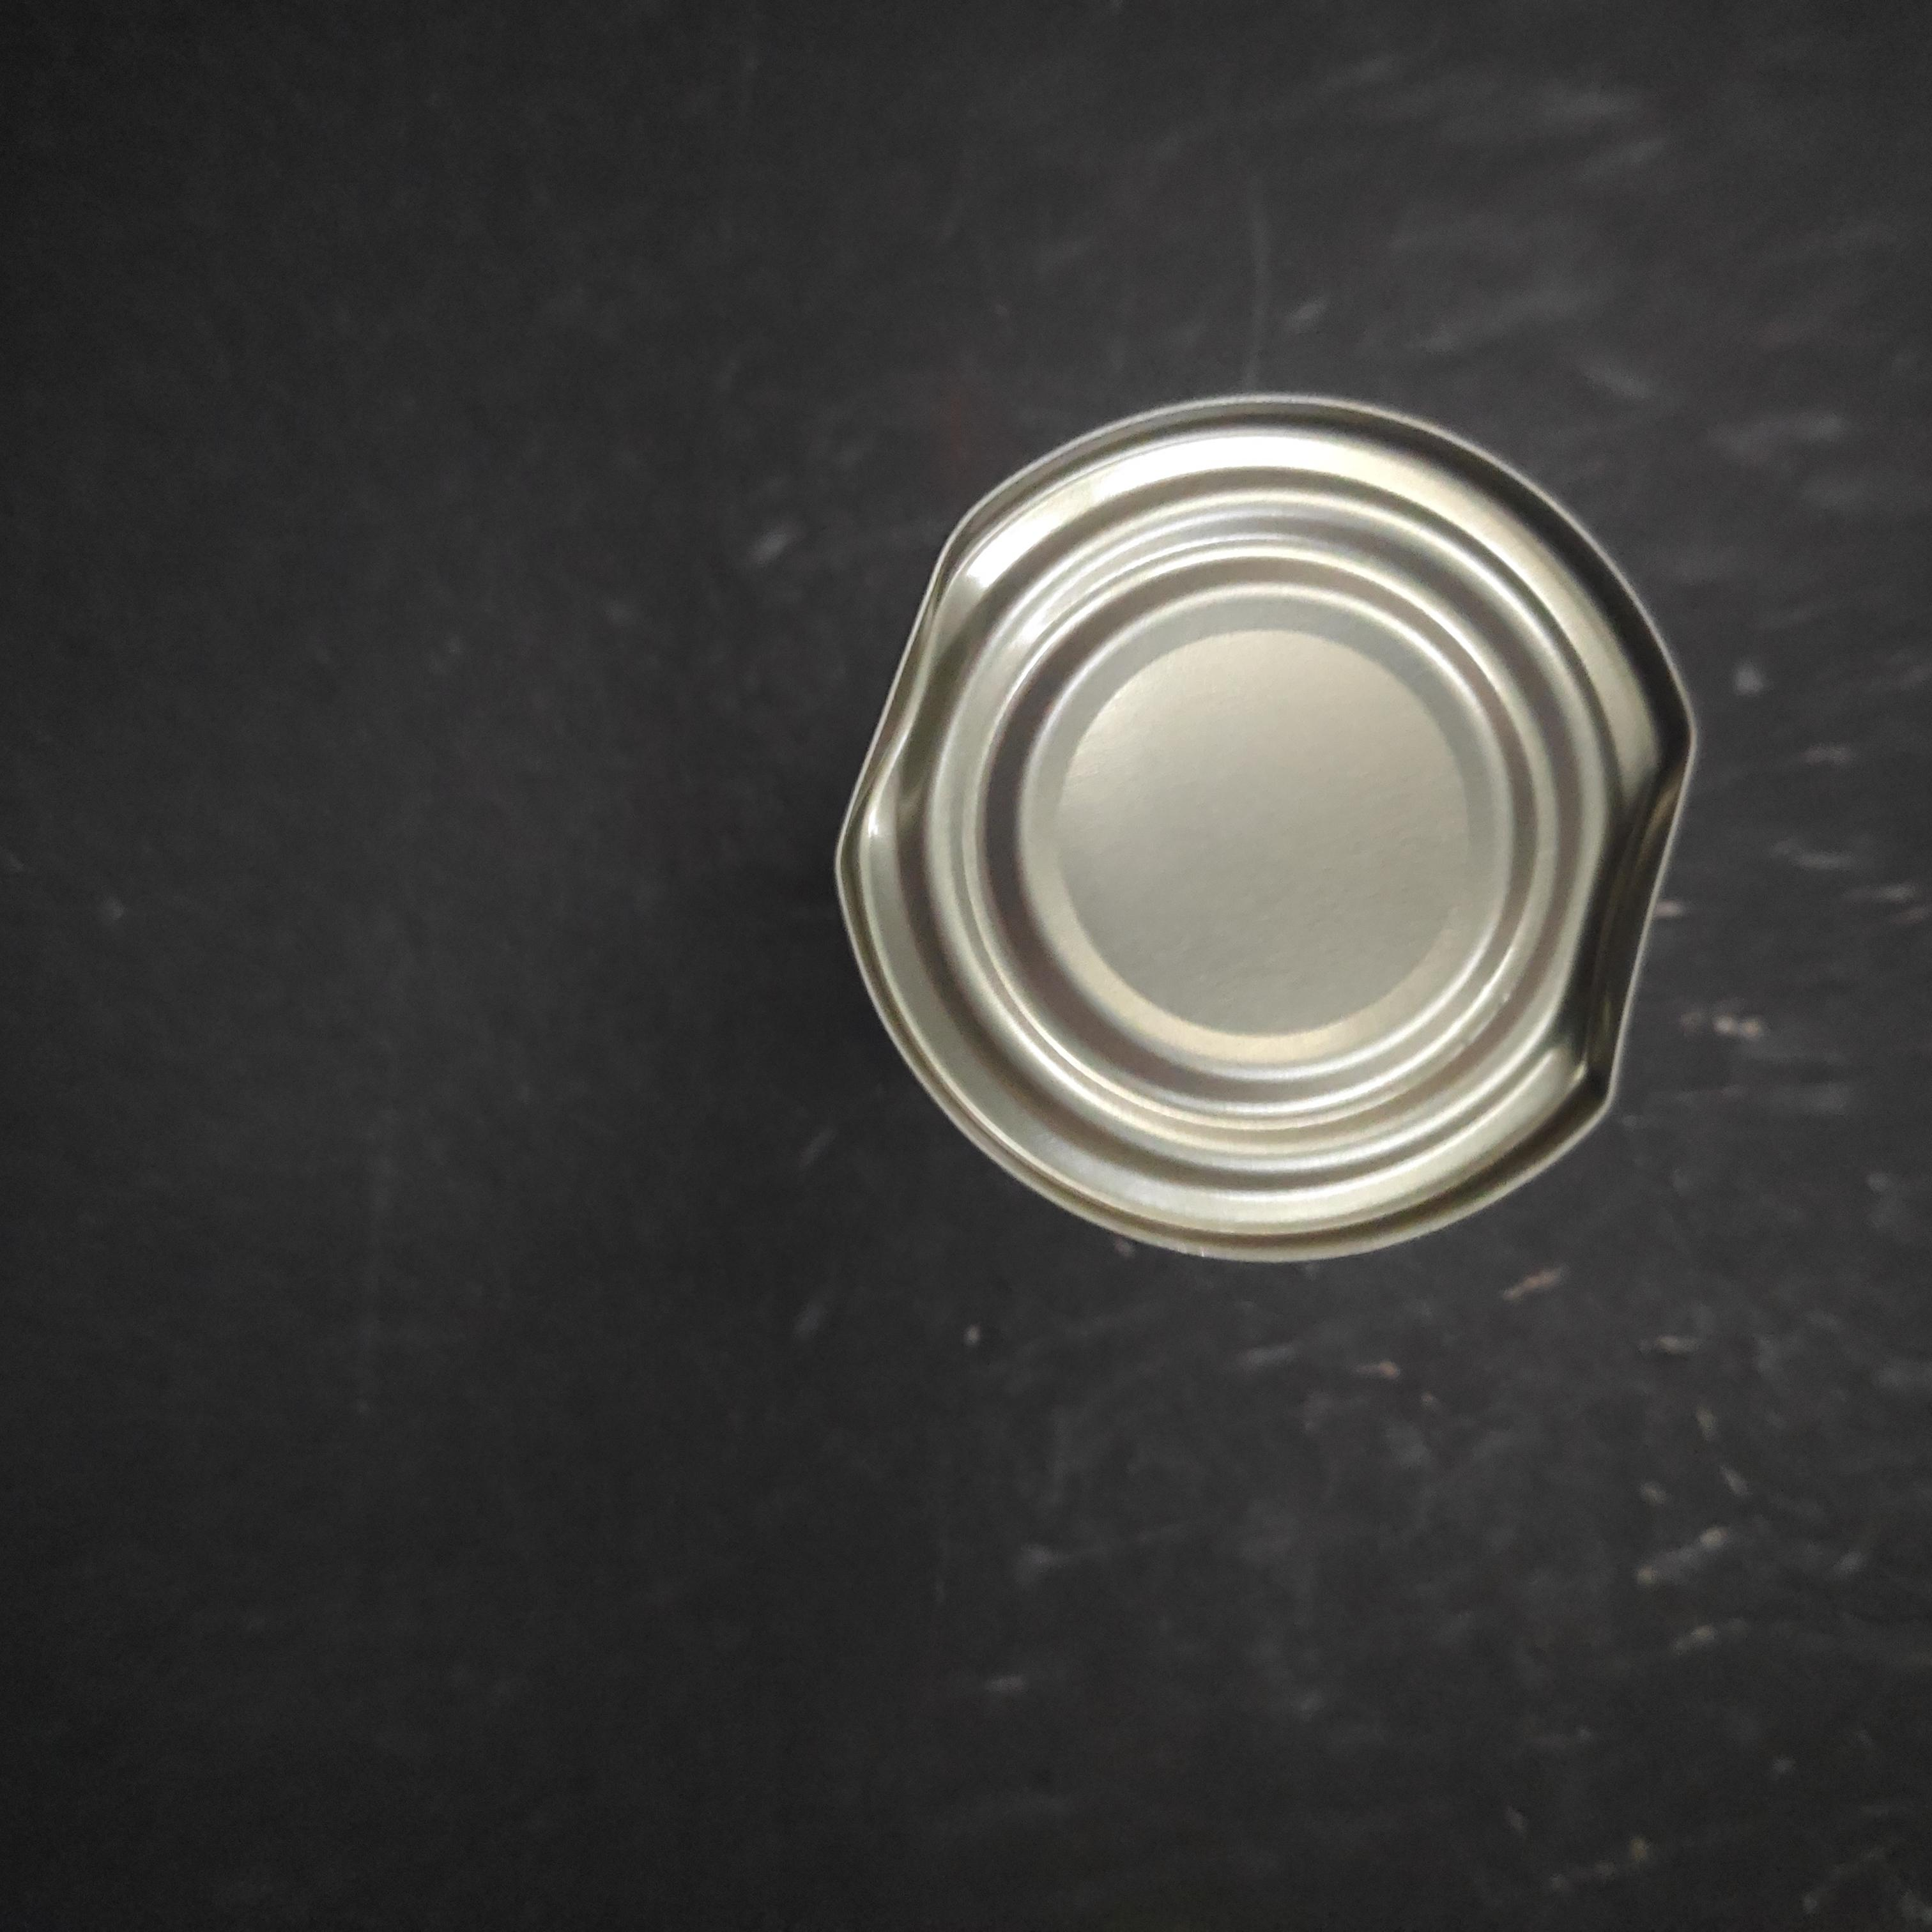Minor Defect: (221, 656, 1120, 1559)
